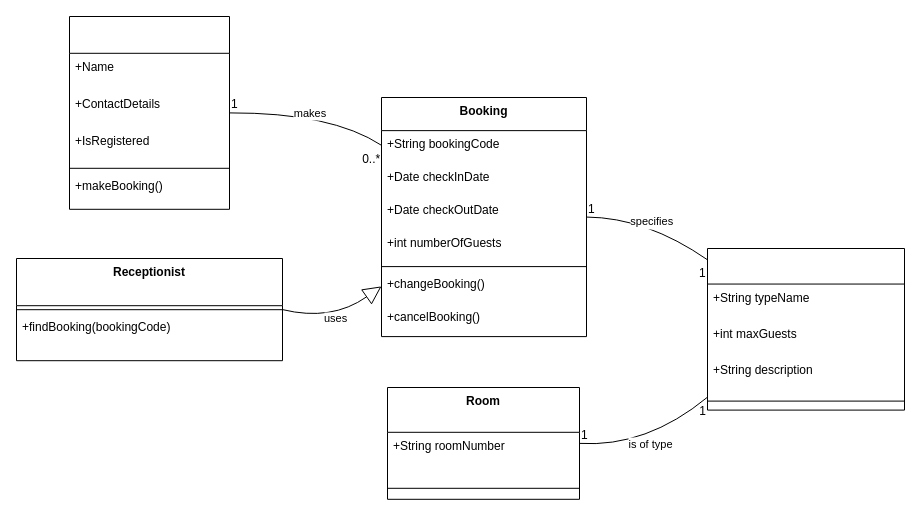
This 921x516 diagram has some shape labels left out. The box of each missing label's shape, as (x1, y1, x2, y2) in pixels:
Guest: (68, 16, 230, 209)
RoomType: (706, 248, 904, 410)
